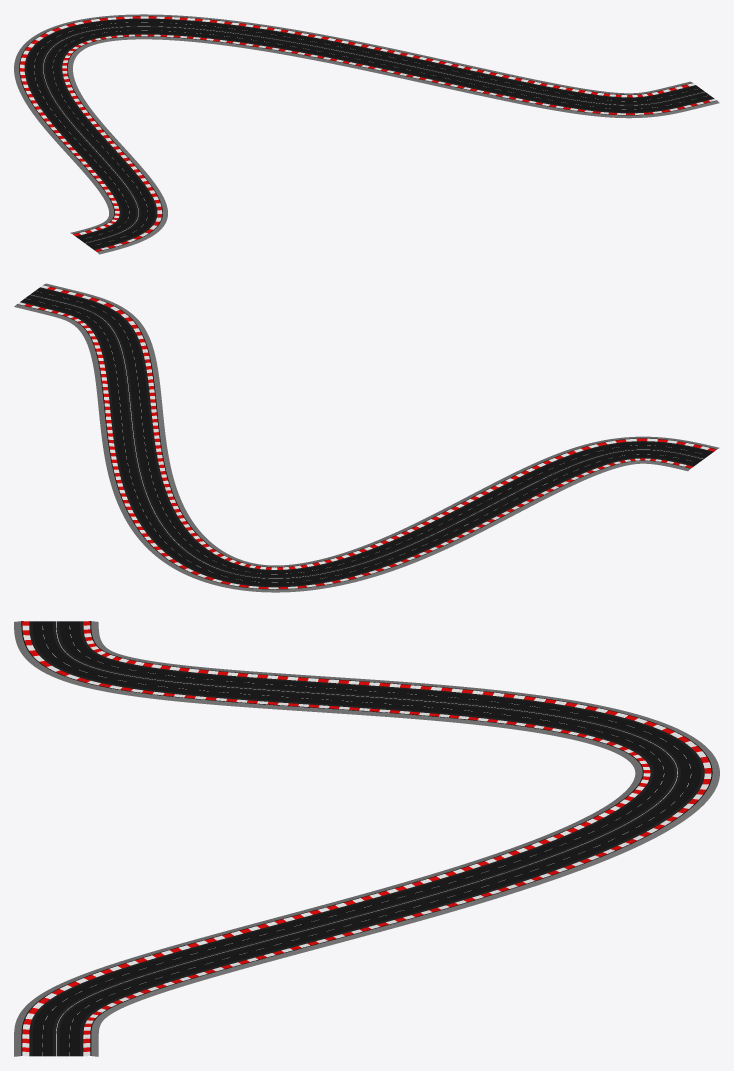
File: S0.3c2h0-mue.glb
The picture shows the model from 3 angles, top to bottom: view 1: azimuth 30°, elevation 25°; view 2: azimuth 150°, elevation 25°; view 3: azimuth 270°, elevation 25°; orthographic projection. The views are drawn at different scales.
Parts seen in each view (by area): view 1: Grid; view 2: Grid; view 3: Grid.
Part boxes in pixels (x1,y1,x2,y2): Grid: (14, 14, 719, 254); Grid: (14, 283, 719, 592); Grid: (14, 621, 719, 1056).
Bounding box in the file's own units: 304 × 0.31 × 208.
